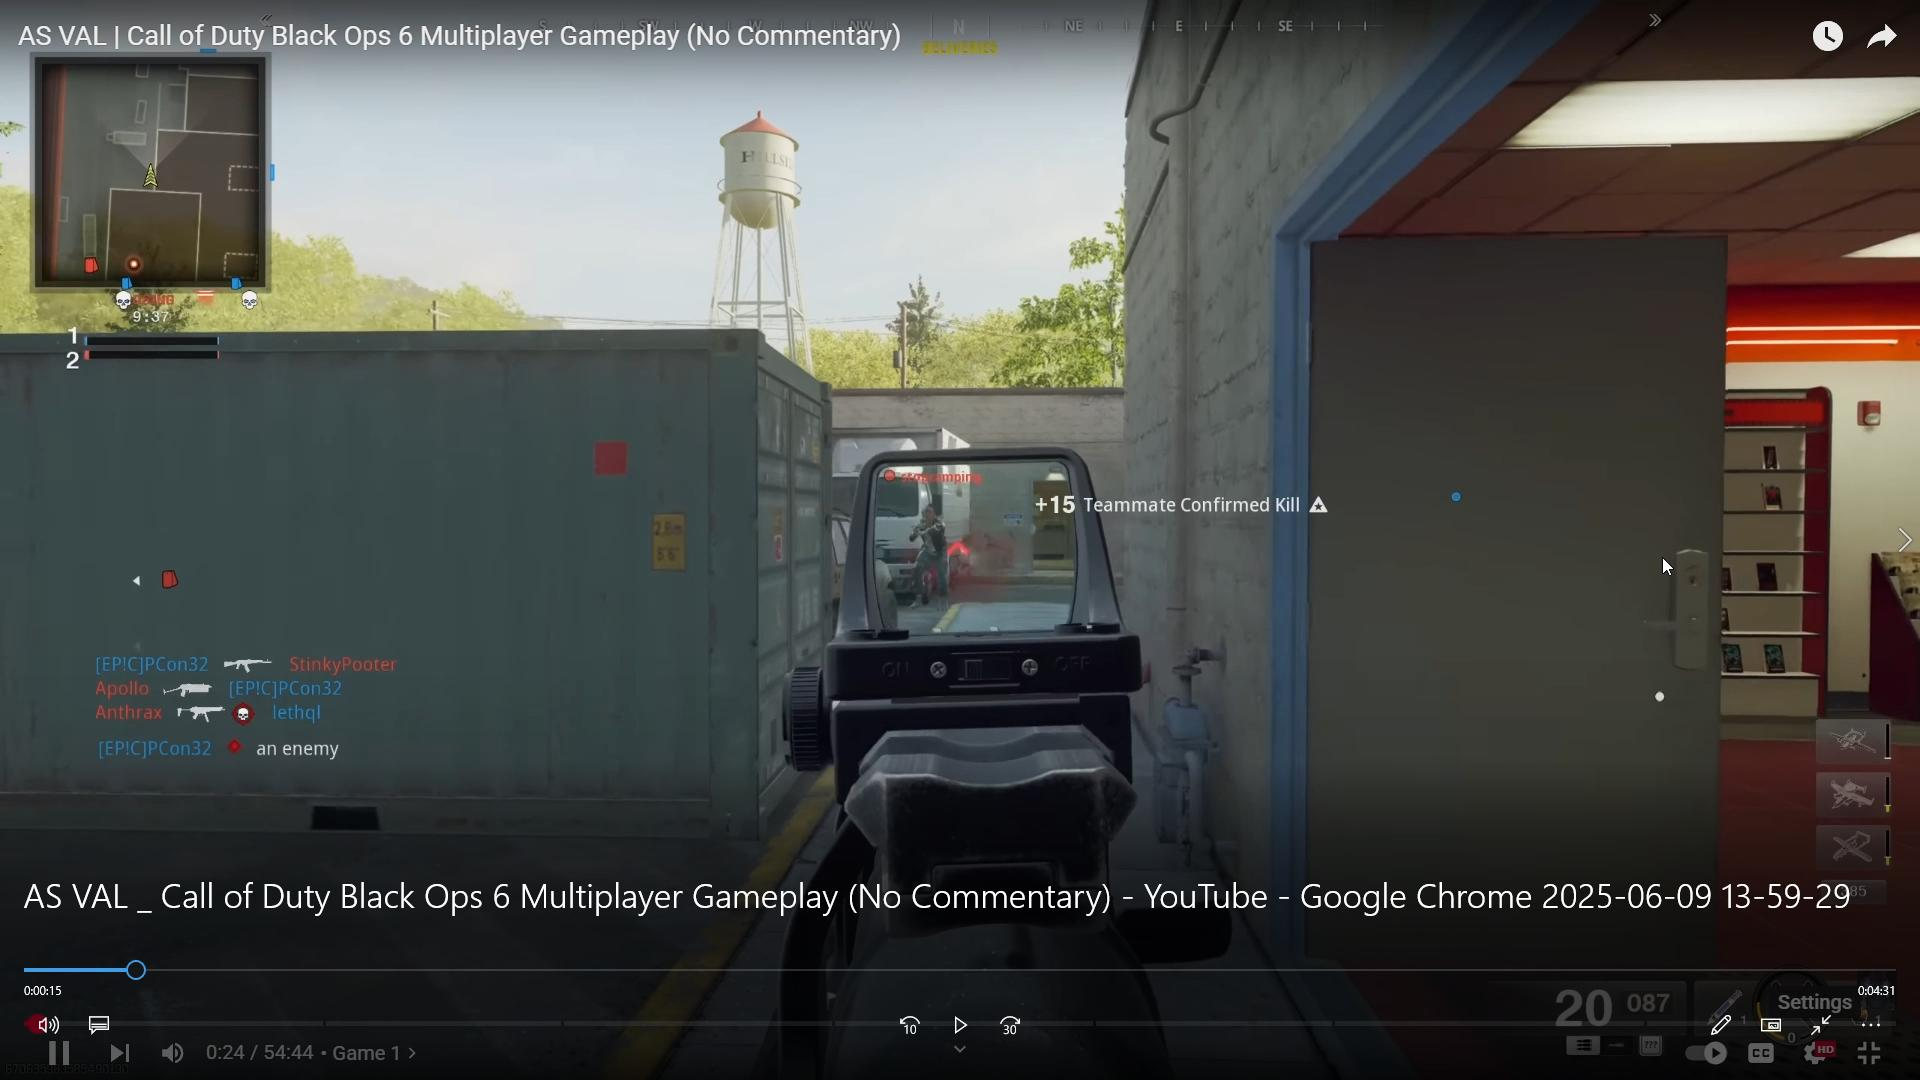Enemy: (907, 501, 952, 596)
